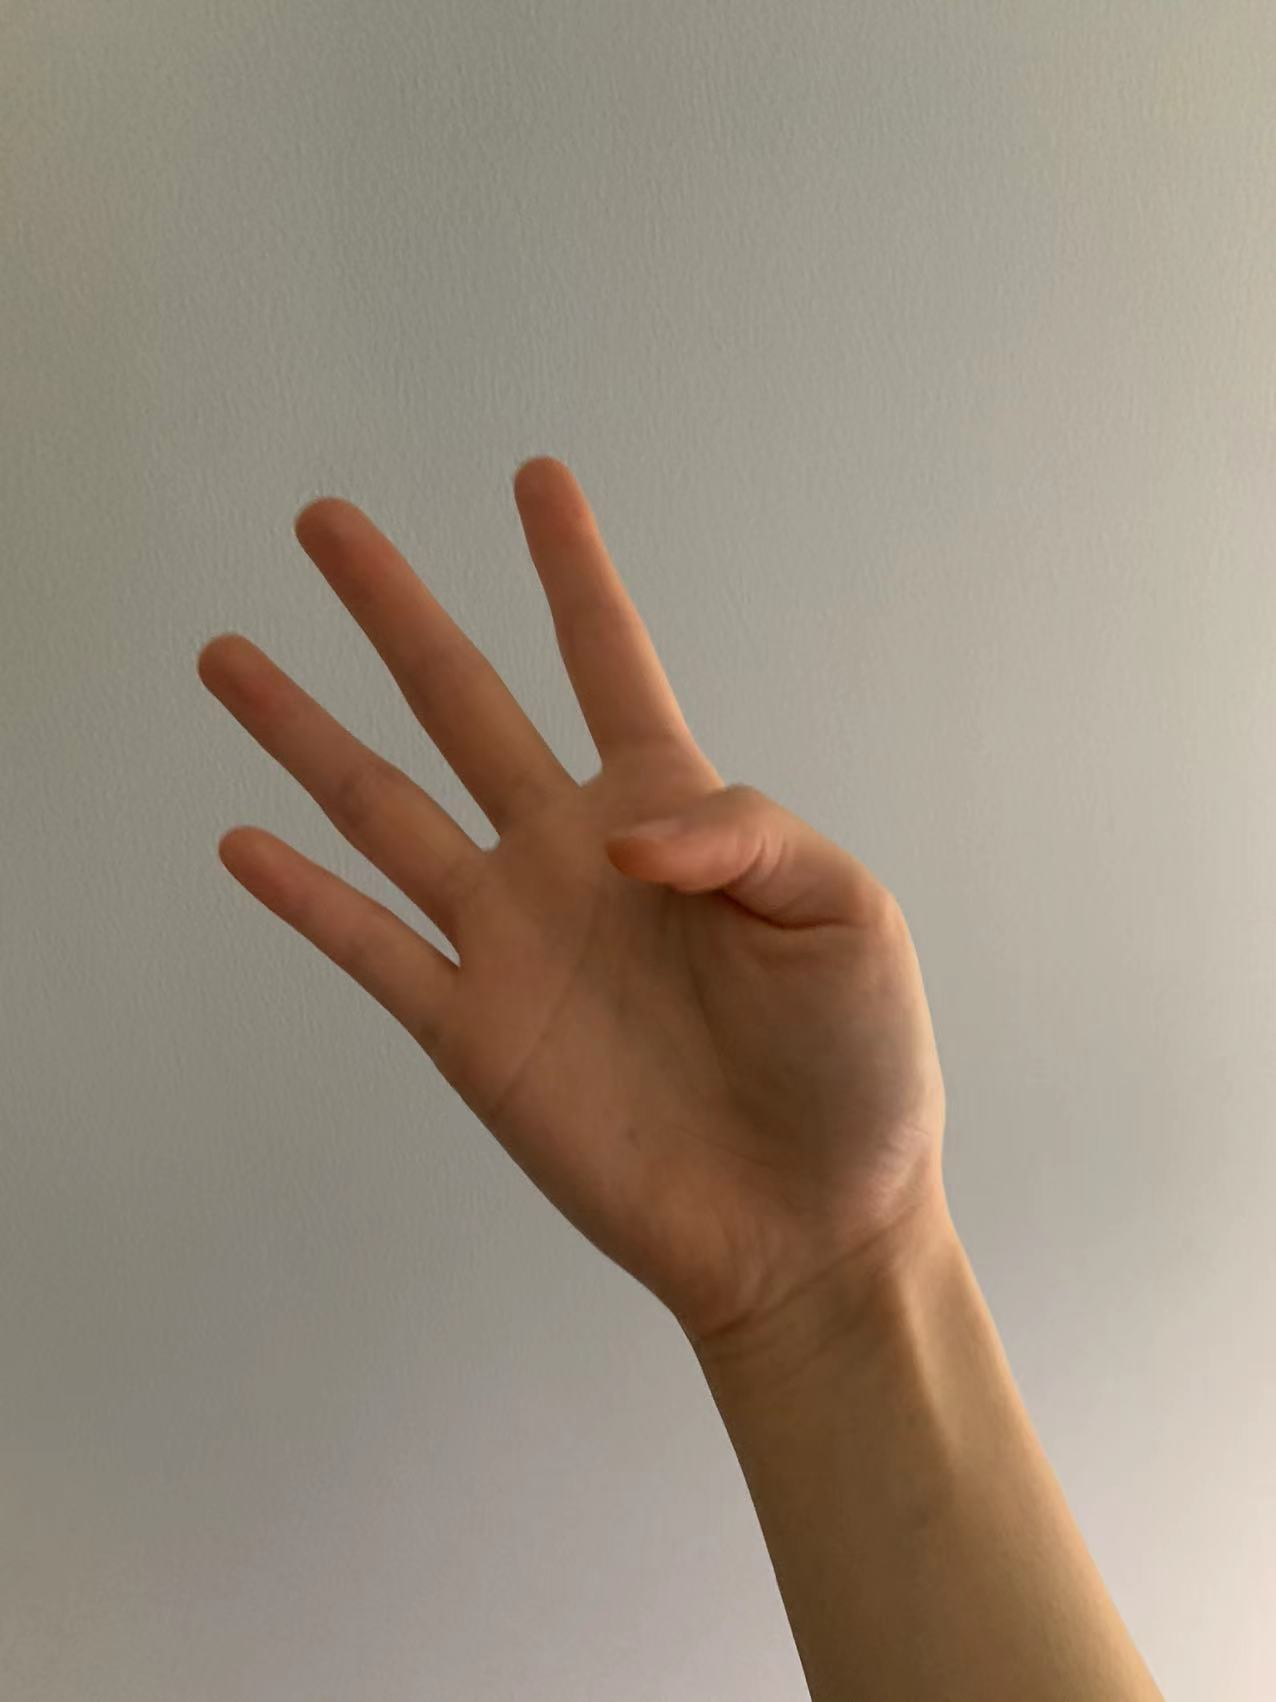right: (205, 444, 940, 1331)
